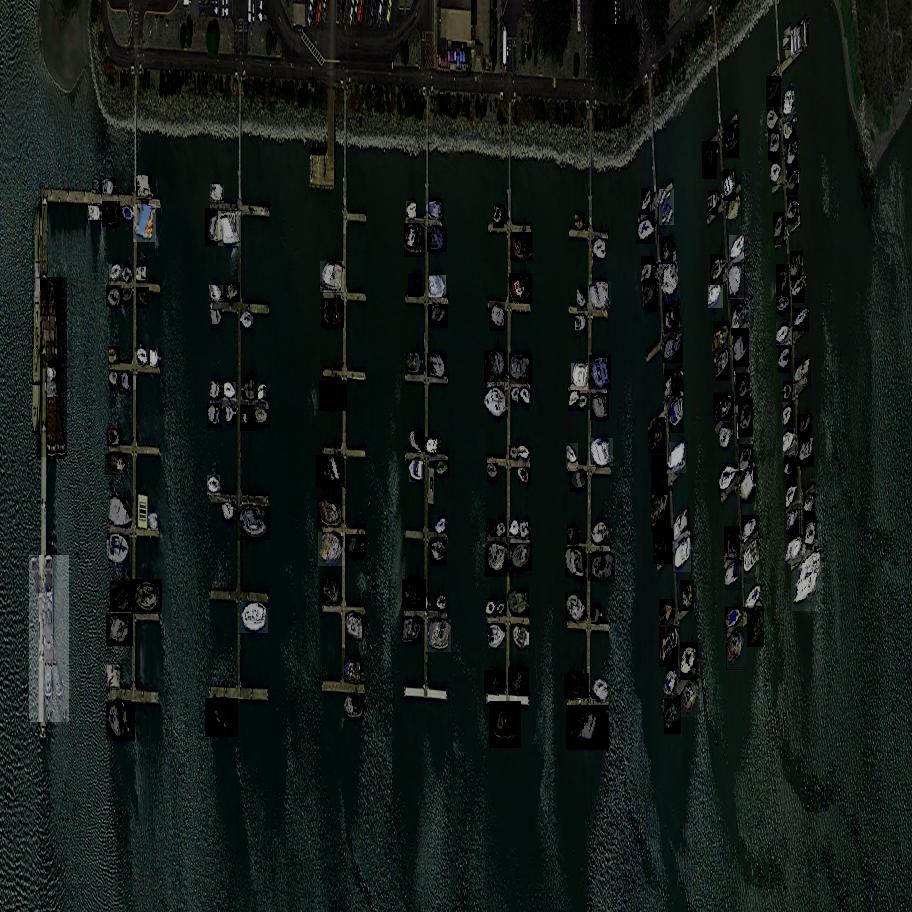ship: (30, 555, 71, 722), (36, 278, 68, 458), (32, 207, 43, 434), (792, 547, 824, 615), (566, 705, 611, 751), (642, 486, 680, 532), (648, 626, 689, 668), (489, 702, 522, 748), (206, 696, 239, 740), (713, 120, 750, 158), (674, 677, 707, 718), (655, 256, 685, 301), (236, 505, 271, 543), (657, 695, 689, 735), (106, 700, 135, 743), (645, 530, 681, 564), (642, 418, 675, 455), (724, 299, 756, 337), (674, 643, 706, 681), (483, 538, 514, 577), (131, 580, 163, 617), (107, 493, 136, 531), (707, 393, 742, 424), (735, 585, 770, 616), (239, 600, 269, 635), (724, 628, 749, 670), (647, 455, 673, 495), (719, 527, 746, 565), (316, 454, 345, 489), (319, 377, 347, 413), (318, 532, 346, 567), (317, 494, 345, 529), (724, 260, 749, 299), (722, 190, 747, 229), (105, 614, 134, 647), (204, 208, 229, 246), (777, 84, 802, 122), (735, 469, 762, 504), (133, 204, 157, 243), (425, 619, 452, 653), (588, 549, 615, 583), (218, 210, 242, 248), (734, 399, 757, 437), (403, 576, 427, 612), (797, 518, 823, 550), (589, 355, 612, 391), (404, 223, 428, 257), (320, 262, 346, 293), (734, 444, 759, 476), (656, 189, 678, 225), (781, 479, 805, 512), (484, 351, 509, 382), (509, 354, 534, 385), (110, 581, 135, 612), (509, 541, 533, 573), (718, 169, 742, 201), (588, 281, 612, 313), (565, 590, 588, 623), (788, 360, 817, 386), (656, 236, 681, 266), (589, 439, 614, 469), (510, 232, 534, 263), (731, 328, 750, 367), (715, 422, 738, 454), (663, 330, 684, 365), (665, 397, 686, 432), (660, 666, 682, 699), (509, 274, 533, 304), (320, 575, 342, 607), (662, 300, 682, 335), (321, 299, 344, 329), (108, 533, 131, 562), (718, 461, 737, 496), (747, 607, 764, 646), (638, 257, 660, 287), (764, 130, 785, 161), (677, 580, 698, 611), (782, 508, 806, 535), (668, 441, 687, 475), (636, 217, 659, 245), (784, 138, 802, 173), (786, 533, 805, 566), (786, 276, 810, 302), (665, 369, 683, 403), (487, 302, 508, 331), (485, 388, 506, 417), (770, 213, 789, 245), (734, 373, 753, 405), (507, 591, 530, 617), (427, 352, 449, 379), (566, 547, 585, 578), (509, 668, 530, 696), (636, 188, 657, 216), (429, 537, 449, 566), (427, 225, 447, 254), (590, 393, 610, 422), (714, 321, 731, 355), (343, 535, 367, 559), (565, 674, 589, 698), (788, 309, 813, 332), (106, 451, 128, 477), (402, 617, 423, 644), (101, 201, 121, 229), (741, 514, 759, 545), (345, 611, 364, 640), (484, 671, 506, 696), (344, 659, 365, 685), (675, 538, 691, 572), (590, 677, 610, 704), (725, 605, 744, 633), (428, 303, 449, 328), (674, 508, 689, 543), (788, 252, 806, 281), (781, 115, 799, 144), (775, 264, 791, 296), (798, 437, 815, 467), (571, 363, 589, 391), (726, 560, 742, 591), (703, 141, 716, 179), (136, 172, 153, 201), (744, 540, 757, 577), (766, 76, 781, 108), (428, 273, 446, 299), (239, 405, 257, 431), (800, 492, 818, 518), (345, 694, 363, 719), (709, 255, 724, 285), (514, 622, 528, 654), (488, 622, 505, 648), (660, 599, 673, 632), (591, 238, 608, 263), (105, 664, 121, 690), (709, 284, 725, 310), (777, 321, 793, 347), (643, 279, 656, 311), (106, 285, 124, 308), (408, 428, 425, 452), (492, 204, 508, 229), (207, 403, 223, 428), (482, 597, 501, 618), (569, 471, 587, 493), (730, 235, 744, 263), (408, 273, 423, 298), (798, 413, 813, 438), (717, 349, 729, 380), (117, 370, 133, 393), (784, 456, 799, 480), (253, 408, 270, 429), (428, 199, 444, 221), (592, 521, 607, 544), (410, 459, 424, 483), (425, 436, 441, 457), (225, 283, 241, 304), (223, 502, 239, 523), (770, 162, 784, 185), (776, 295, 792, 315), (137, 286, 150, 310), (779, 347, 791, 373), (784, 429, 796, 455), (435, 460, 451, 479), (210, 184, 225, 204), (207, 476, 222, 496), (435, 514, 448, 537), (407, 352, 421, 373), (793, 25, 805, 49), (121, 205, 136, 224), (108, 346, 122, 366), (567, 525, 581, 545), (245, 377, 257, 400), (568, 388, 580, 411), (567, 443, 578, 468), (109, 263, 123, 282), (210, 284, 224, 303), (211, 380, 224, 400), (434, 595, 448, 613), (767, 109, 779, 130), (787, 199, 797, 224), (518, 444, 531, 463), (495, 600, 508, 619), (136, 347, 149, 366), (788, 171, 798, 195), (577, 393, 591, 410), (108, 428, 121, 446), (224, 382, 237, 400), (792, 28, 801, 54), (574, 315, 587, 333), (496, 520, 508, 539), (519, 521, 531, 540), (240, 312, 252, 330), (709, 191, 718, 215), (575, 212, 586, 231), (578, 288, 587, 311), (509, 445, 521, 462), (103, 178, 115, 195), (784, 402, 792, 427), (406, 201, 417, 219), (148, 513, 159, 531), (89, 205, 100, 222), (136, 266, 147, 283), (518, 468, 529, 484), (122, 289, 133, 305), (211, 310, 222, 326), (802, 20, 809, 45), (488, 464, 498, 481), (108, 369, 118, 386), (521, 386, 529, 406), (510, 387, 520, 403), (486, 521, 496, 537), (784, 382, 792, 402), (92, 179, 102, 194), (510, 521, 519, 537), (122, 266, 131, 282), (592, 606, 600, 624), (227, 407, 235, 424), (150, 349, 158, 366), (509, 551, 514, 577), (258, 384, 264, 402), (784, 37, 791, 50), (426, 590, 428, 607), (791, 32, 792, 56)
